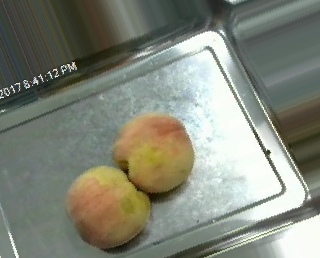Peach: (64, 164, 150, 249), (114, 111, 194, 193)
